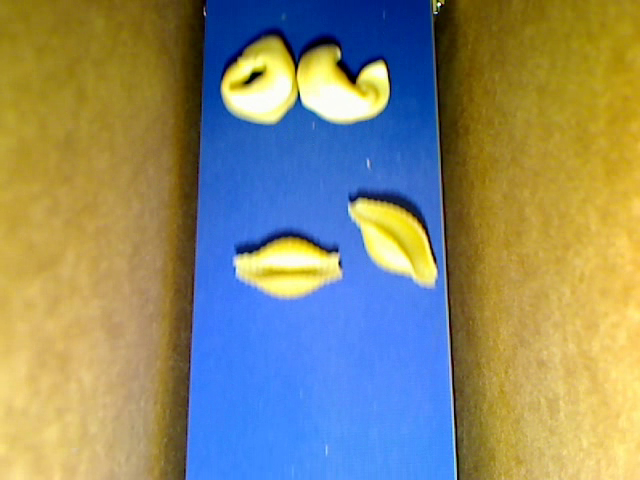shell: (348, 197, 438, 289), (233, 235, 341, 300)
tortellini: (295, 47, 390, 125), (220, 35, 297, 126)
